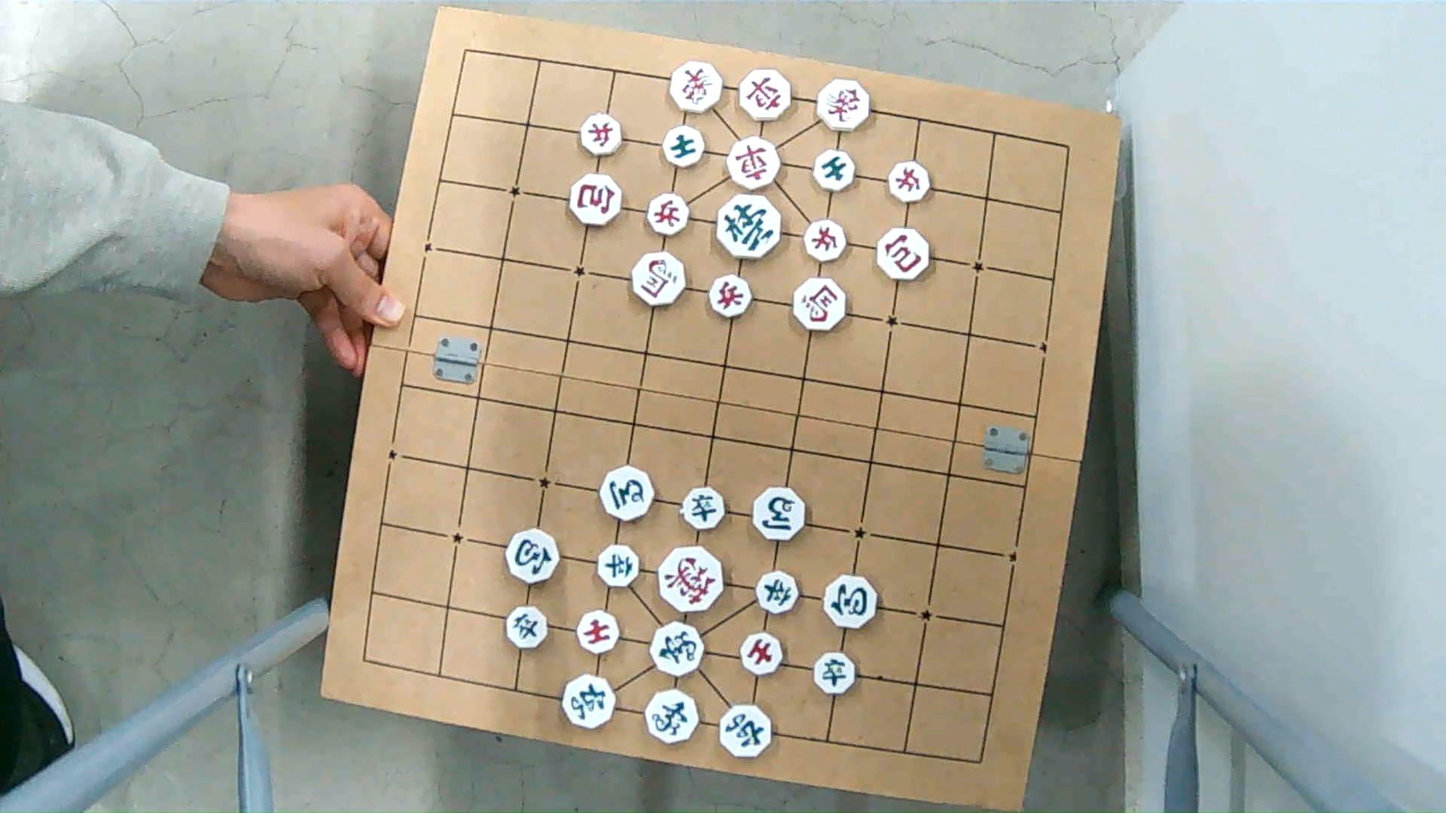cha_green: (720, 705, 773, 760), (560, 679, 614, 730)
cha_red: (726, 140, 782, 187), (739, 69, 792, 118)
jol_green: (502, 608, 548, 649), (812, 654, 857, 695), (758, 571, 799, 613), (684, 489, 728, 528), (598, 546, 639, 586)
jol_red: (801, 218, 848, 263), (709, 275, 755, 316), (887, 164, 932, 203), (645, 197, 690, 236), (583, 117, 627, 156)
ma_green: (753, 489, 810, 544), (598, 468, 653, 518)
ma_red: (631, 255, 686, 305), (793, 279, 847, 327)
po_green: (504, 531, 560, 582), (823, 577, 880, 627)
po_red: (572, 175, 627, 225), (876, 230, 929, 276)
sa_green: (812, 151, 855, 190), (664, 128, 707, 167)
sa_red: (739, 633, 784, 675), (576, 612, 621, 652)
sang_green: (651, 623, 706, 674), (645, 692, 700, 742)
sang_red: (816, 81, 872, 129), (668, 65, 722, 113)
wang_green: (715, 196, 783, 257)
wang_red: (657, 545, 724, 607)
